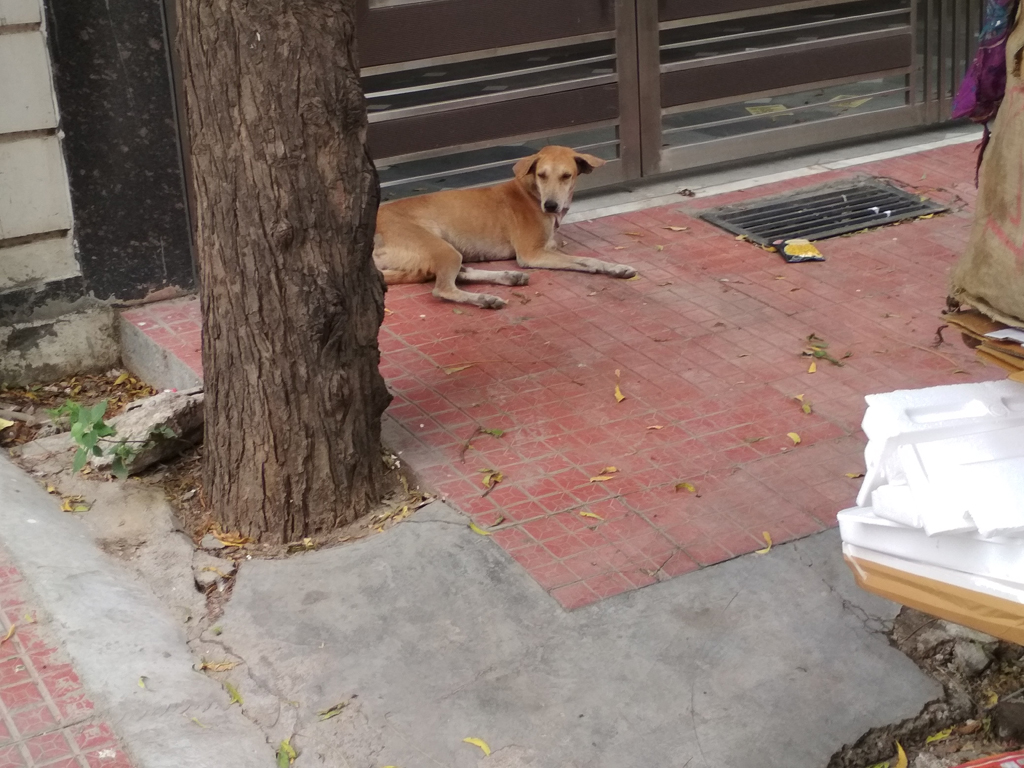dog: (372, 144, 636, 312)
